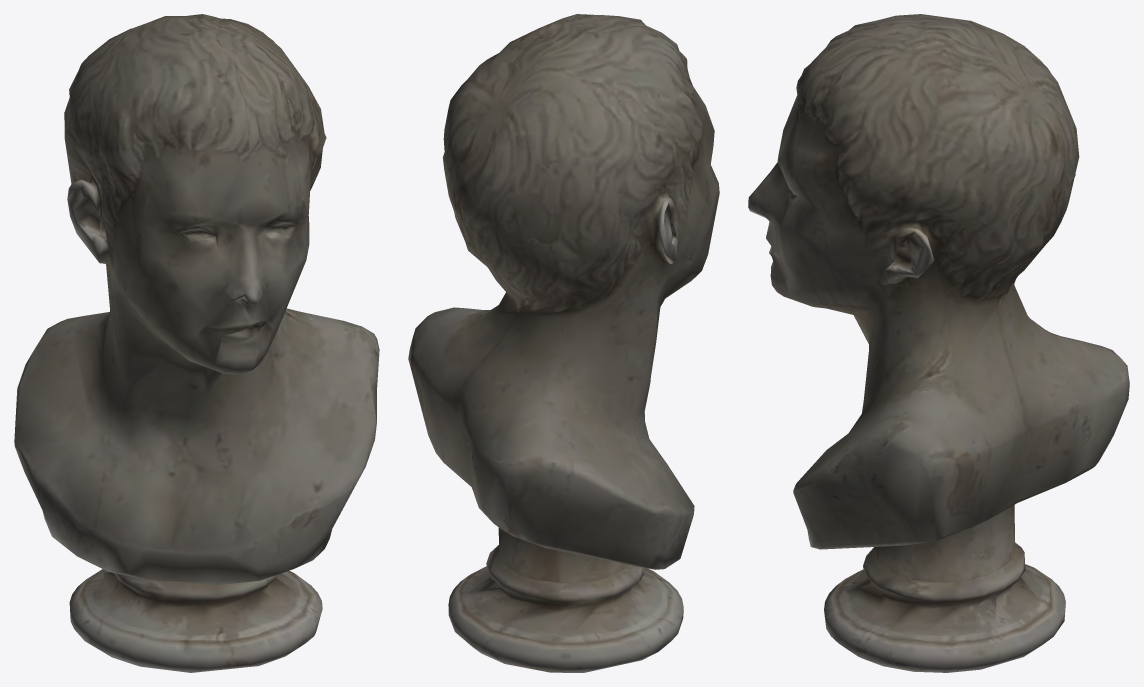
Rendered from bust.glb.
3 renders of one model, left to right at view 1: azimuth 30°, elevation 25°; view 2: azimuth 150°, elevation 25°; view 3: azimuth 270°, elevation 25°, orthographic. The views are drawn at different scales.
Visible parts, largest first — view 1: bust; view 2: bust; view 3: bust.
Boxes of the visible parts, x1,y1,x2,y2 form: bust: [14, 14, 379, 672]; bust: [408, 14, 719, 672]; bust: [748, 14, 1129, 672].
Size of the model in its own units: 0.2718 by 0.5147 by 0.2986.
Materials: 1 (1 with a texture image).
